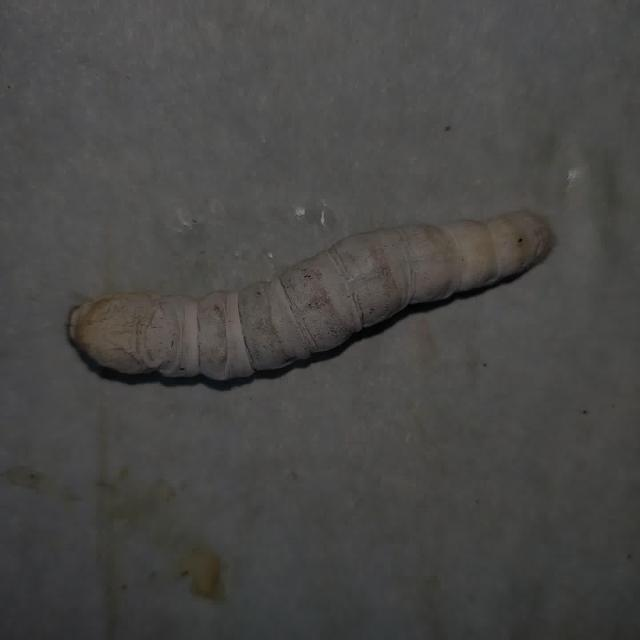Grasserie: (48, 194, 570, 408)
